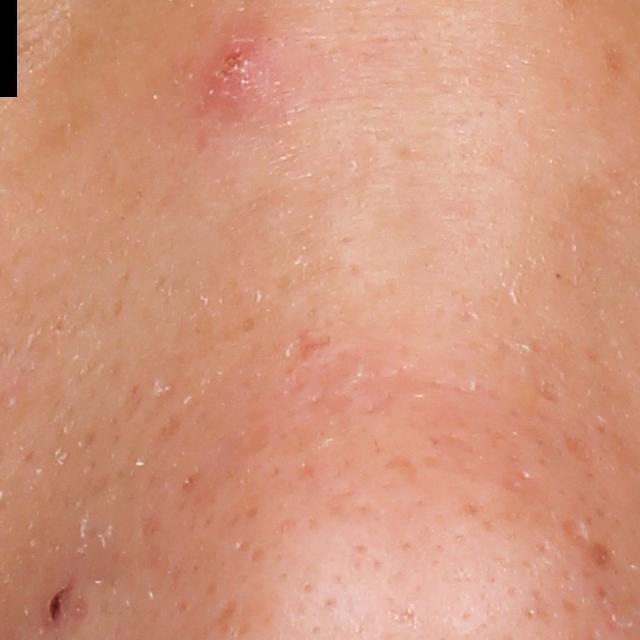atrophic_scar: (292, 329, 337, 368), (557, 513, 590, 549)
papule: (204, 29, 282, 110), (38, 576, 87, 631)
